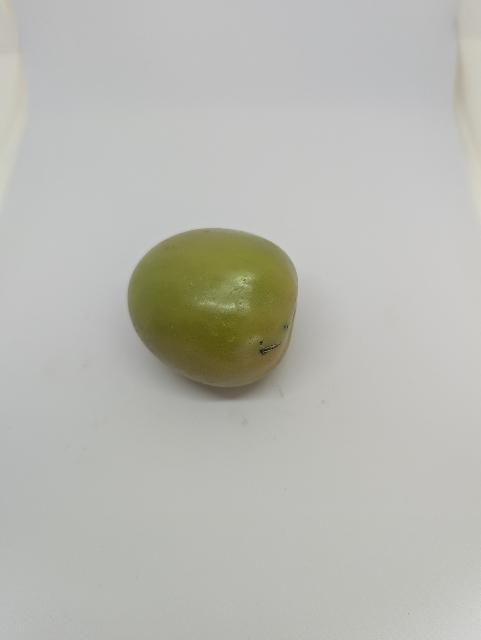green: (111, 219, 311, 398)
